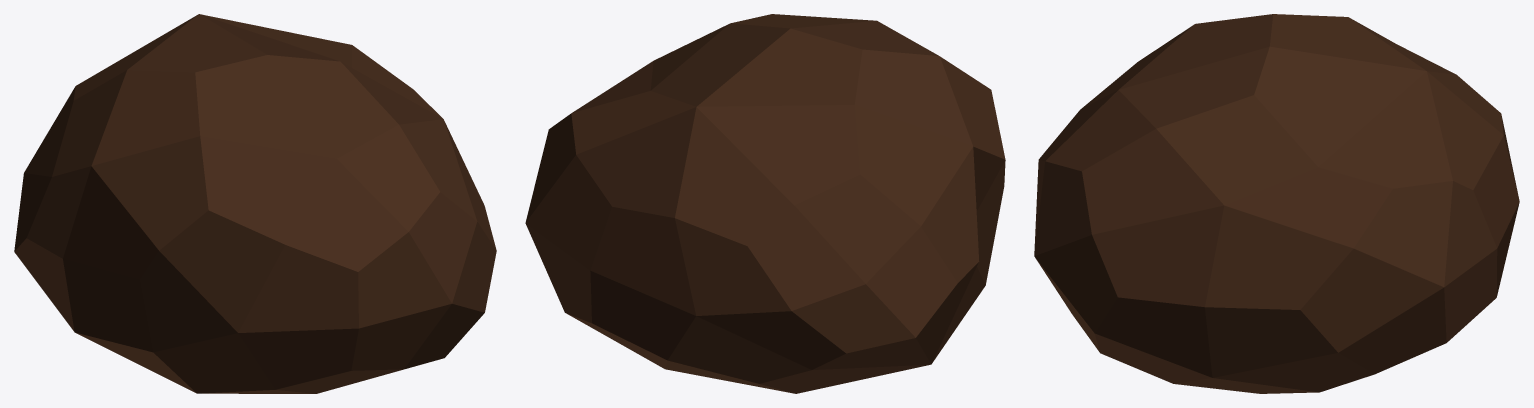
The model's file is Boulder2.glb.
The picture shows the model from 3 angles, left to right: view 1: azimuth 30°, elevation 25°; view 2: azimuth 150°, elevation 25°; view 3: azimuth 270°, elevation 25°; orthographic projection. The views are drawn at different scales.
Visible parts, largest first — view 1: Boulder2; view 2: Boulder2; view 3: Boulder2.
Part boxes in pixels (box(x1,y1,x2,y2)): Boulder2: box(14, 14, 496, 393); Boulder2: box(525, 14, 1005, 393); Boulder2: box(1034, 14, 1519, 393).
Size of the model in its own units: 1.39 by 1.03 by 1.45.
